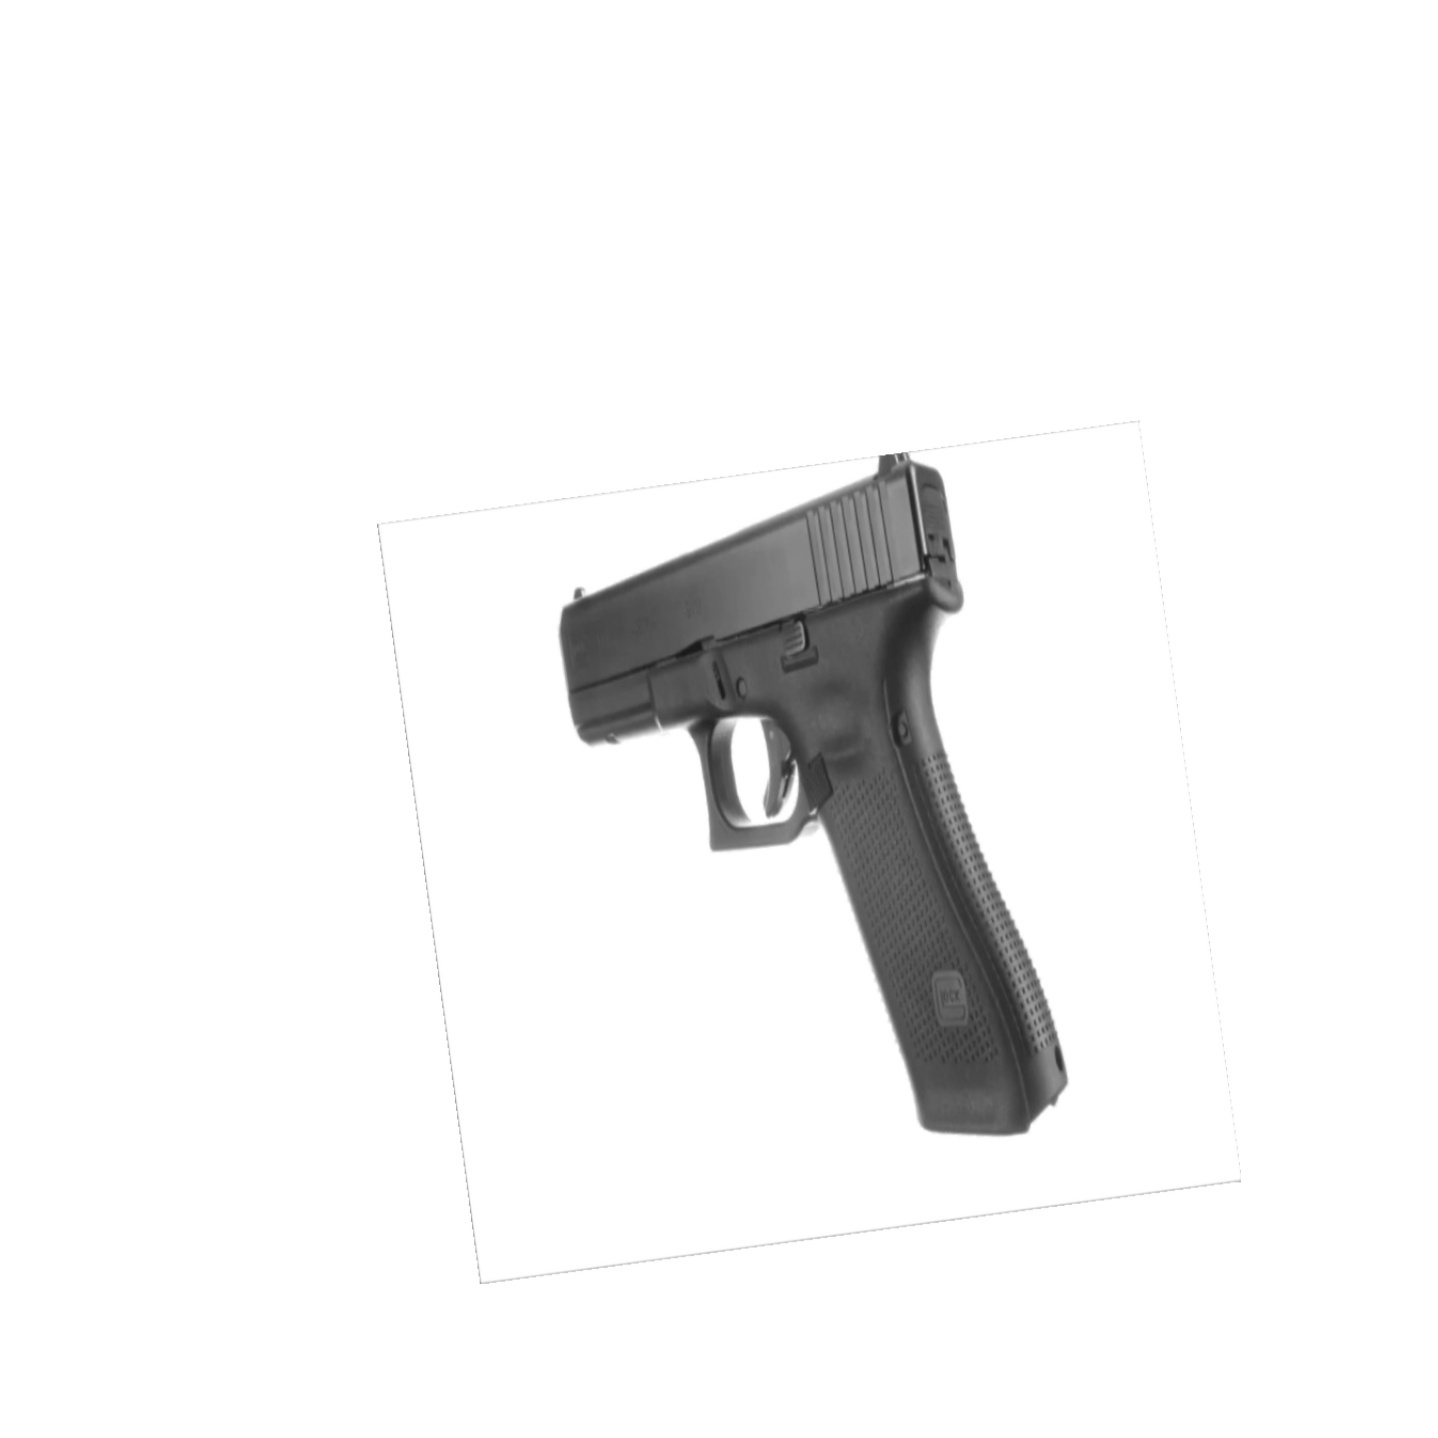gun: (546, 445, 1073, 1144)
